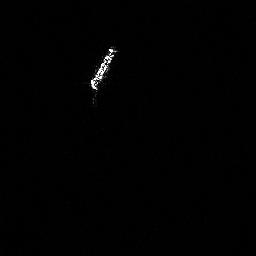ship: (89, 44, 120, 106)
